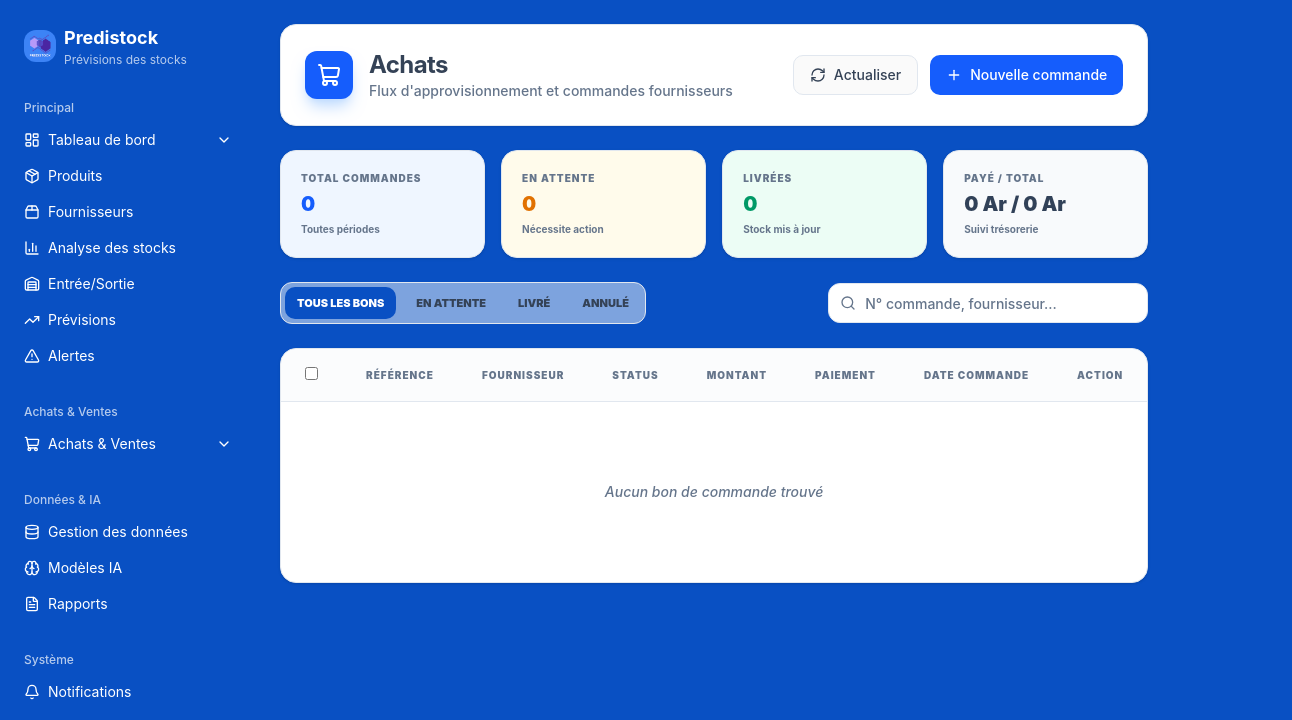
Résultat attendu — une interface où gérer les achats et les ventes, toujours opérationnelle › Toujours opérationnel : les cinq écrans s'ouvrent depuis le menu « Achats & Ventes »
Click the button "Achats & Ventes" at (128,444), box [16,428,240,460]
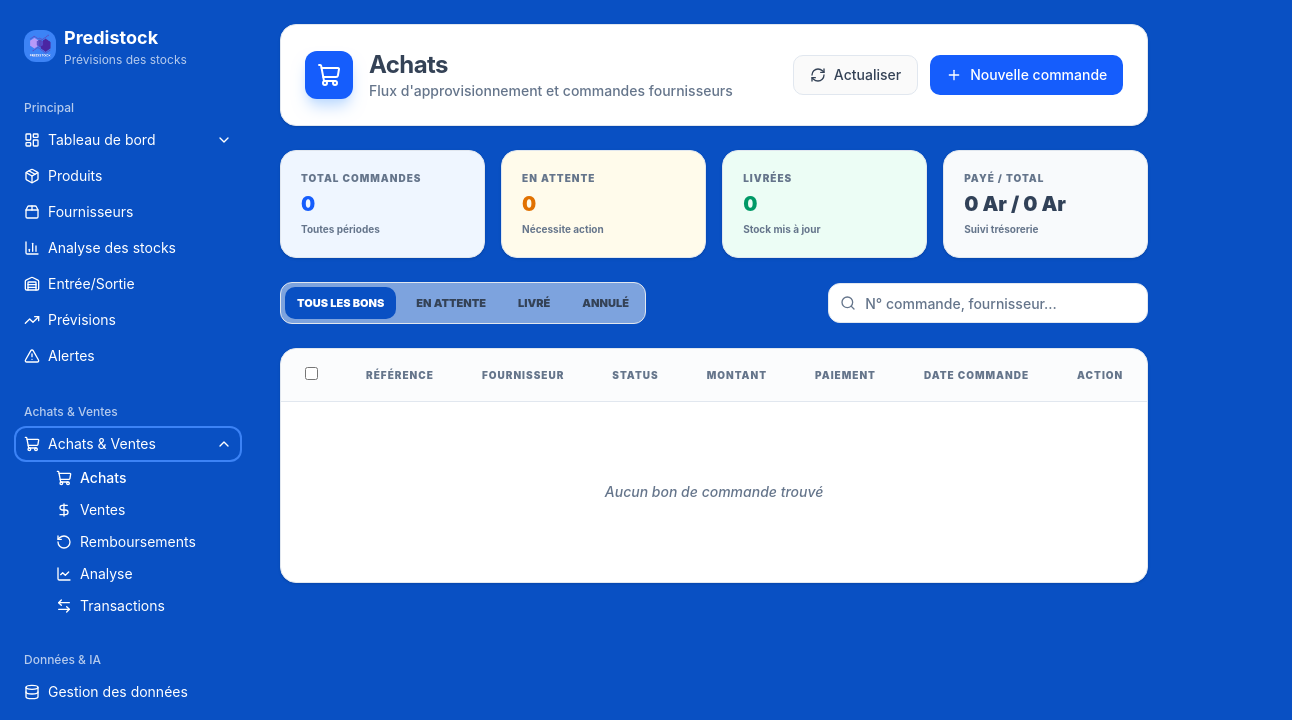
Click the link "Achats" at (103,478), box [80,468,126,488]
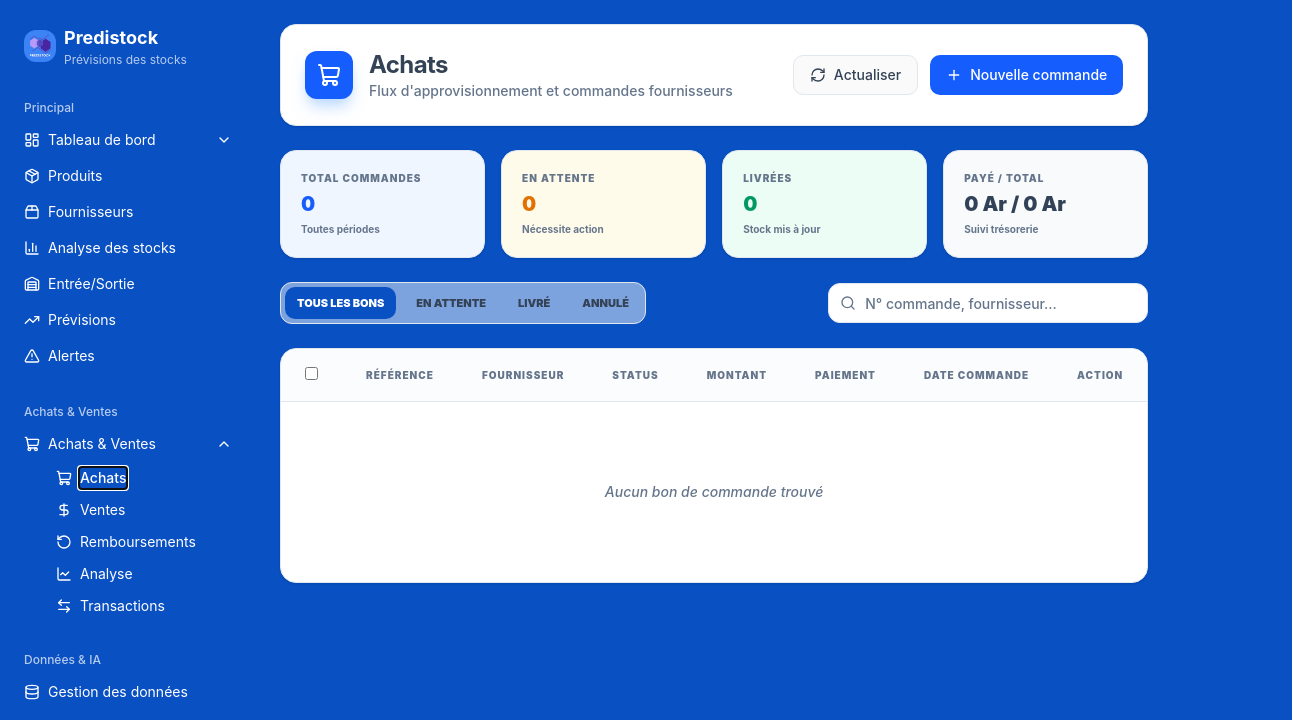
Expected: the heading "Achats" is shown, [369,50,448,79]
Click the link "Ventes" at (103,510), box [80,500,125,520]
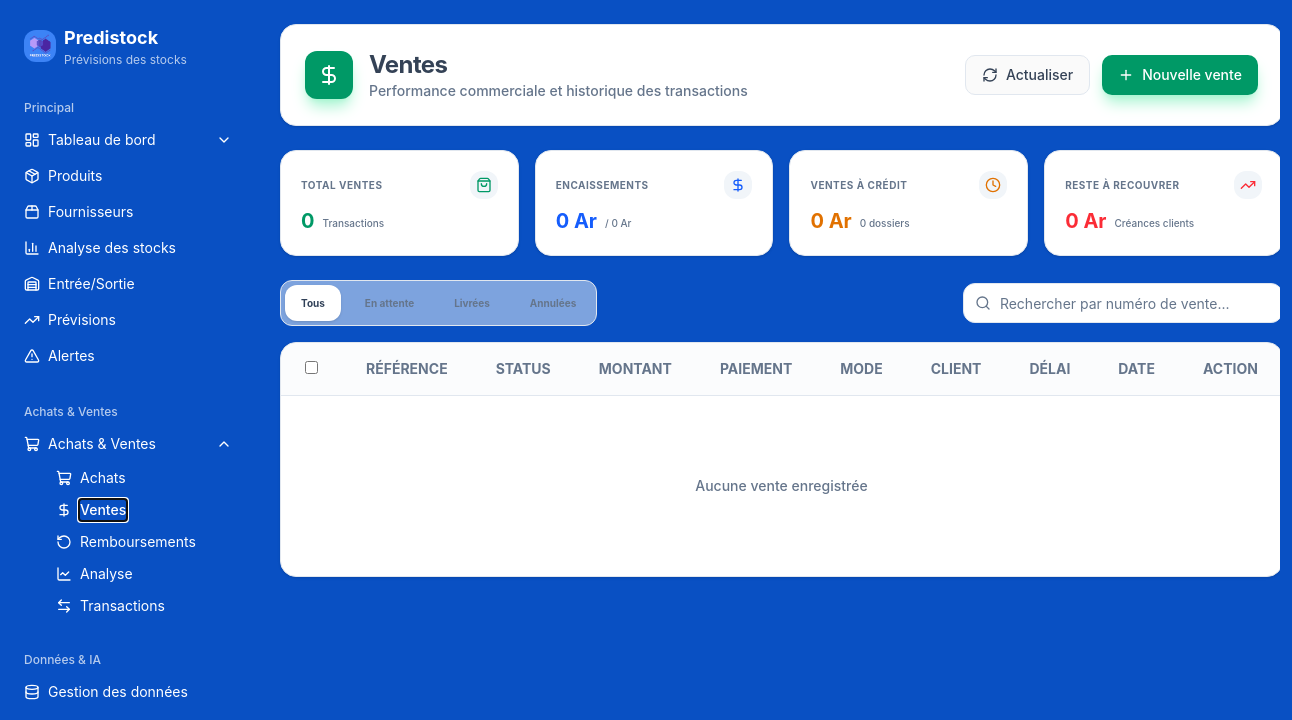
Expected: the heading "Ventes" is shown, [369,50,447,79]
Click the link "Remboursements" at (138,542), box [80,532,196,552]
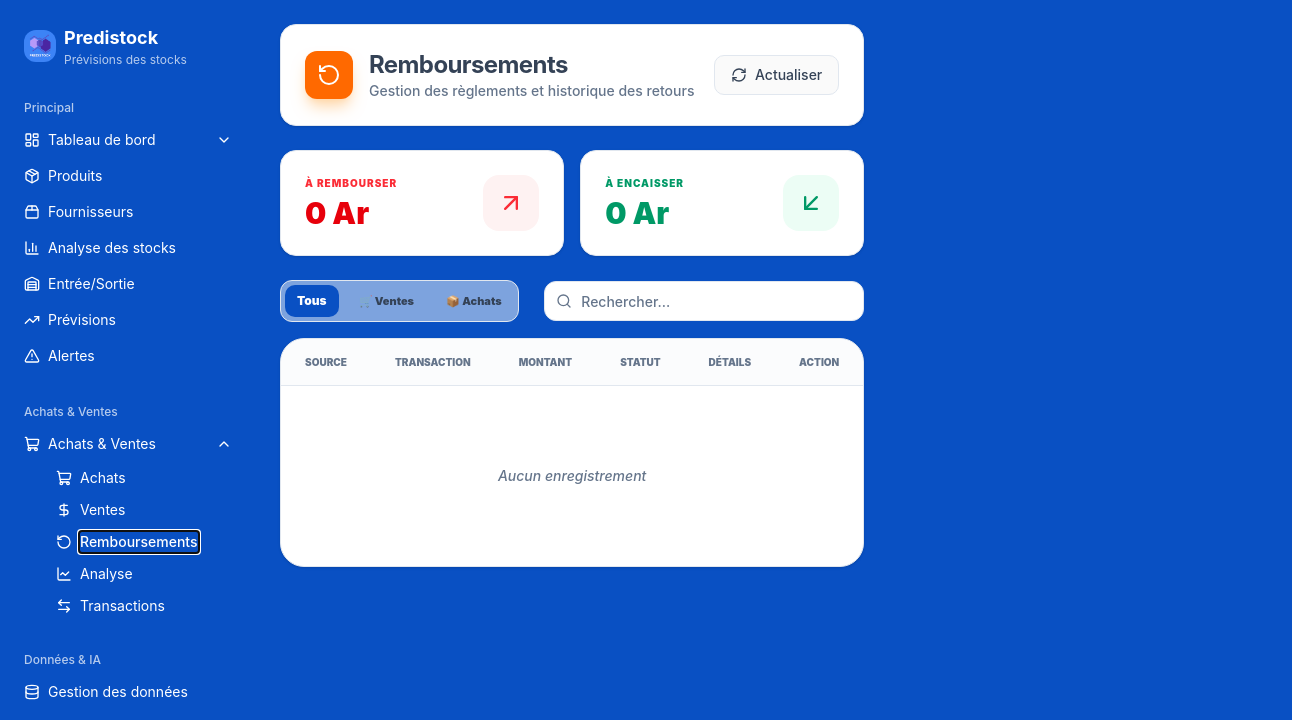
Expected: the heading "Remboursements" is shown, [369,50,568,79]
Click the link "Analyse" at (106,574), box [80,564,133,584]
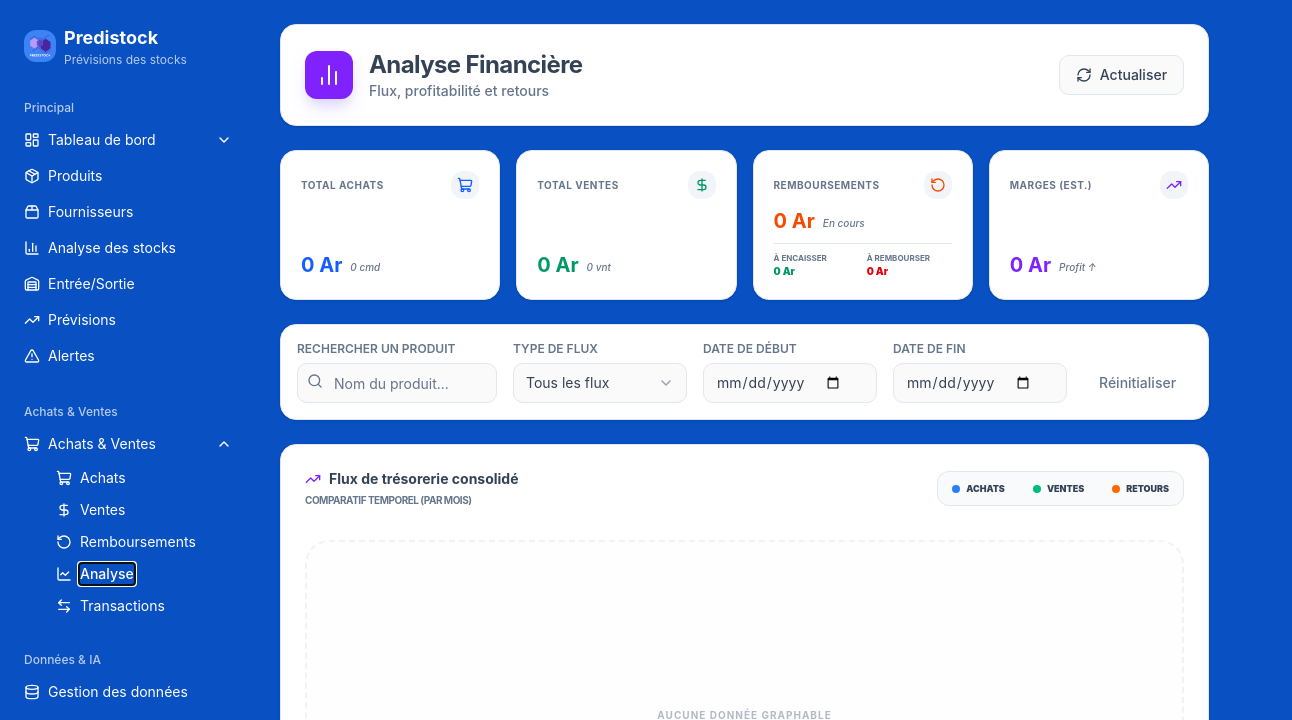
Expected: the heading "Analyse Financière" is shown, [369,49,582,81]
Click the link "Transactions" at (122,606), box [80,596,165,616]
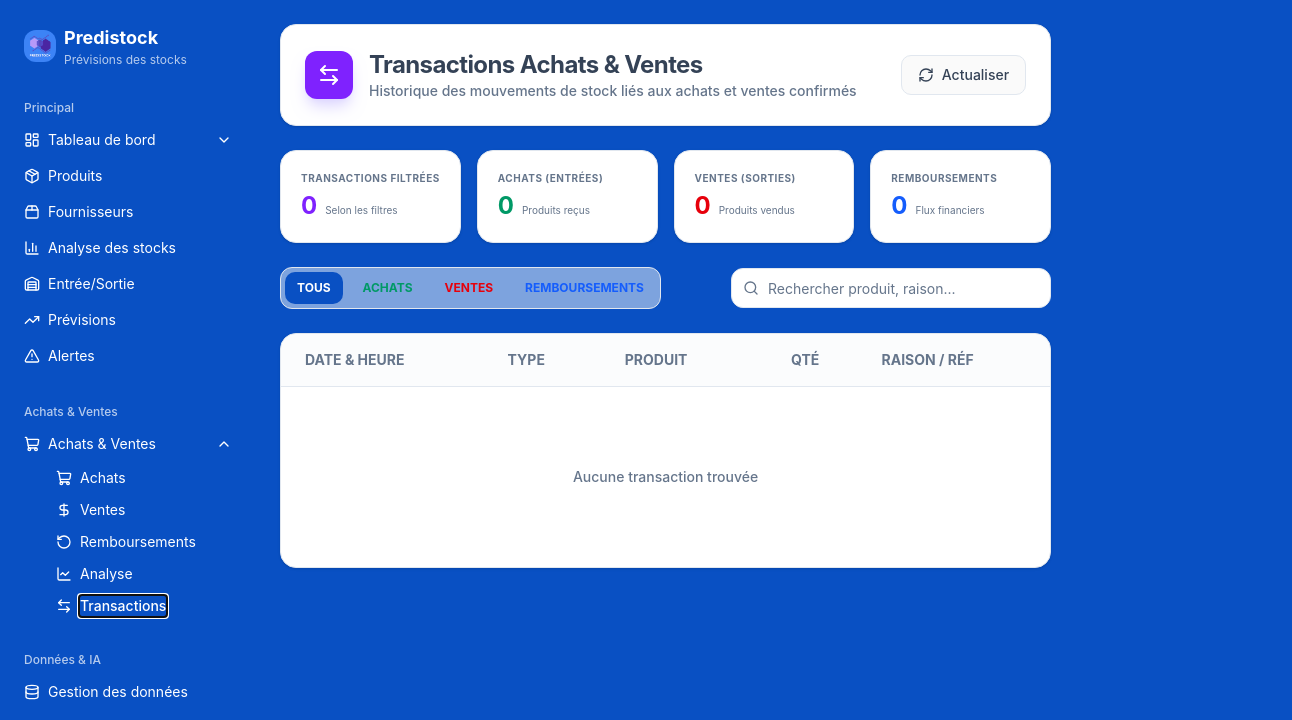
Expected: the heading "Transactions Achats & Ventes" is shown, [369,50,703,79]
